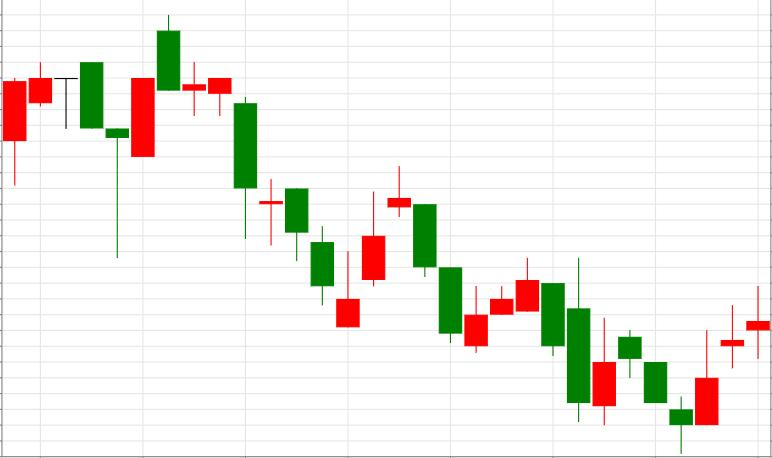evening_star_fall: (336, 166, 436, 328)
inverse_hammer_rise: (234, 96, 360, 328)
